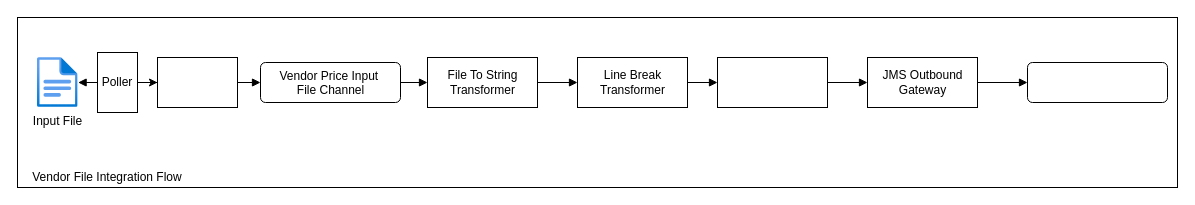
Image size: 1195x205. Some labels were removed from this diagram. The shapes that lost their labels are listed below. From the top down, each one's centre as x and y in pixels, then its label:
the point at 197,82: File Reading Source
the point at 772,82: Splitter
the point at 1097,82: Vendor Price Feed Channel
